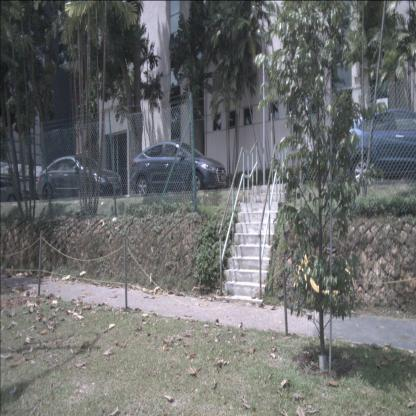vehicle-car: (332, 108, 416, 187), (129, 141, 227, 198), (36, 156, 122, 203), (0, 172, 22, 206)
